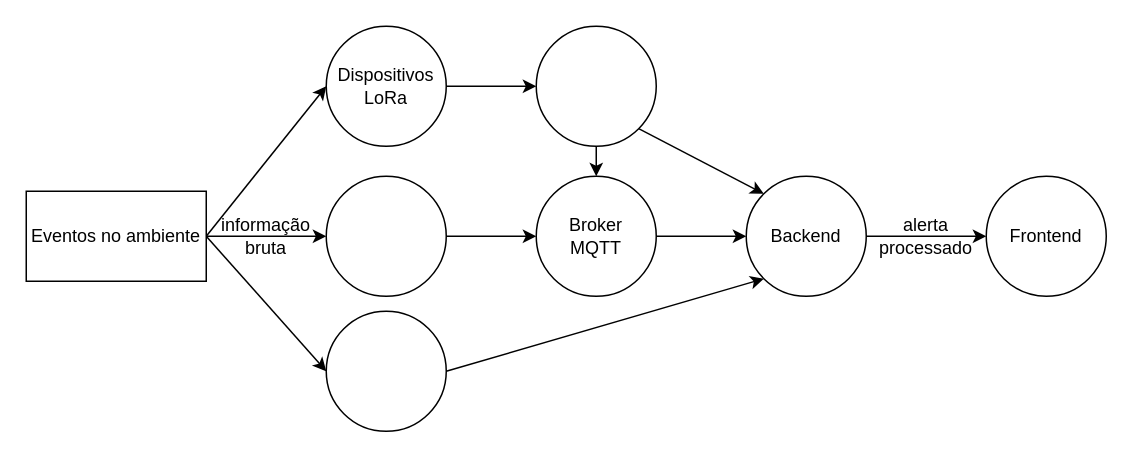
This 1133x458 diagram has some shape labels left out. Here are the shapes that lost their labels. From the top down, the centre of each, then its label:
point (595, 85): Gateway LoRa
point (385, 235): Dispositivos MQTT
point (385, 370): Dispositivos HTTP
